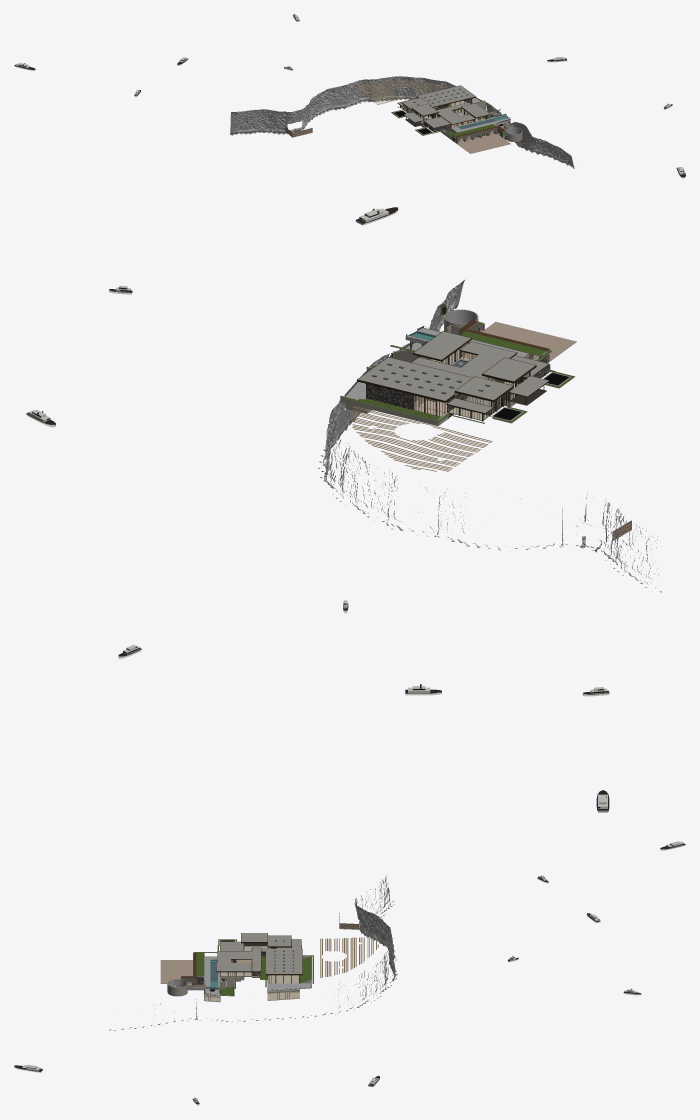
Rendered from house.glb.
3 renders of one model, top to bottom at view 1: azimuth 30°, elevation 25°; view 2: azimuth 150°, elevation 25°; view 3: azimuth 270°, elevation 25°, orthographic. The views are drawn at different scales.
Visible parts, largest first — view 1: house__cliff, house__stone, house__roof, house__metal, house__misc, house__lawn, house__glass; view 2: house__stone, house__roof, house__cliff, house__metal, house__misc, house__lawn; view 3: house__stone, house__roof, house__cliff, house__lawn, house__metal, house__misc, house__dark.
Part boxes in pixels (box(x1,y1,x2,y2)): house__cliff: box(230, 76, 574, 168); house__stone: box(355, 79, 522, 153); house__roof: box(398, 85, 512, 127); house__metal: box(394, 85, 511, 132); house__misc: box(14, 14, 685, 178); house__lawn: box(309, 98, 512, 137); house__glass: box(18, 16, 684, 173); house__stone: box(340, 309, 576, 471); house__roof: box(345, 331, 548, 413); house__cliff: box(321, 280, 661, 592); house__metal: box(344, 326, 569, 420); house__misc: box(26, 207, 609, 812); house__lawn: box(318, 303, 631, 576); house__stone: box(160, 937, 378, 1002); house__roof: box(204, 933, 302, 996); house__cliff: box(109, 875, 396, 1030); house__lawn: box(168, 904, 397, 1022); house__metal: box(203, 933, 311, 1001); house__misc: box(14, 841, 685, 1105); house__dark: box(209, 920, 360, 999).
Bounding box in the file's own units: 627 × 47.33 × 678.
